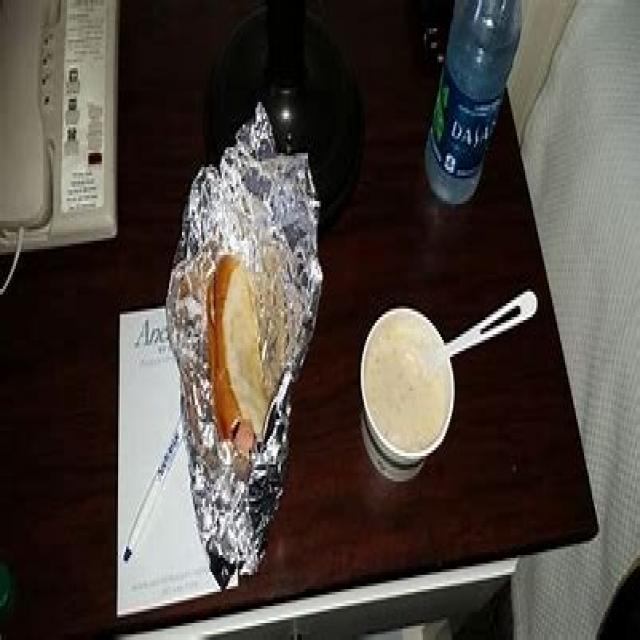Sandwich: (198, 232, 278, 476)
